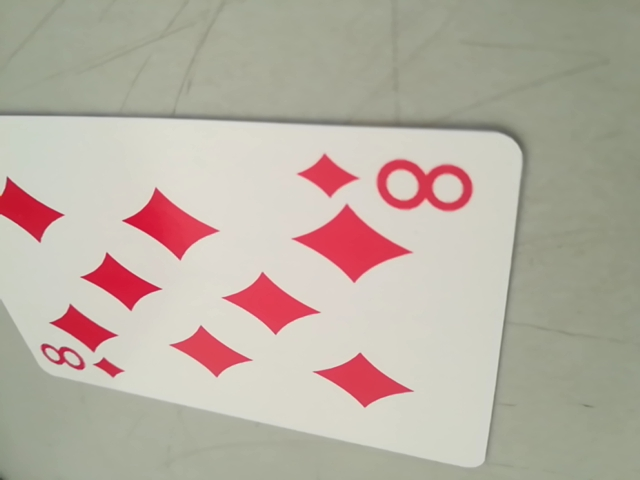fk 8: (295, 151, 472, 218), (37, 340, 127, 380)
